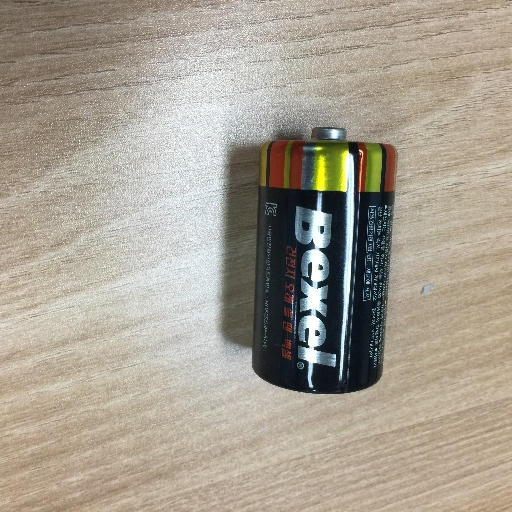Battery_0: (241, 120, 408, 399)
